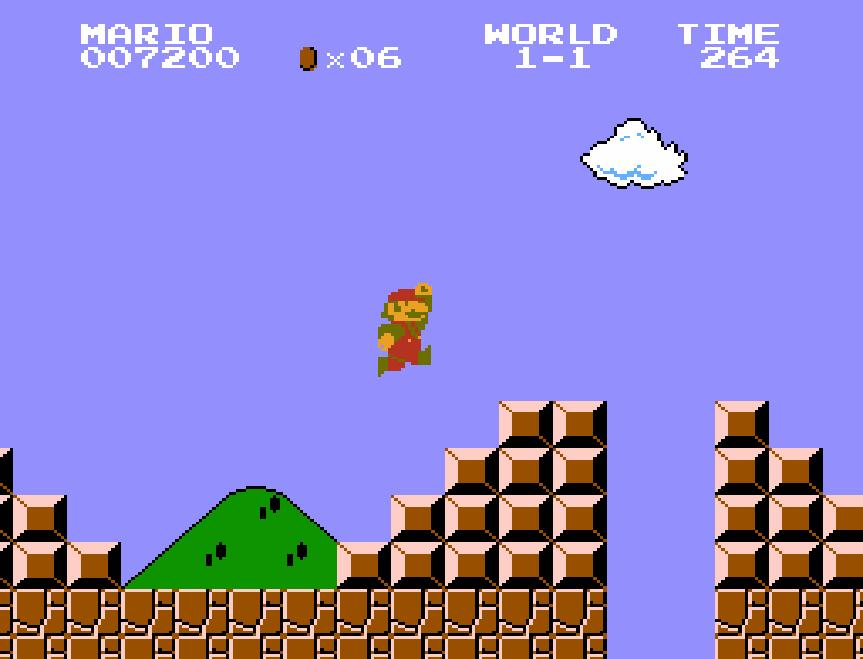big_mario: (376, 280, 434, 378)
